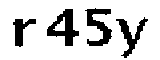4: (45, 8, 80, 48)
5: (84, 5, 113, 52)
r: (6, 15, 38, 49)
y: (115, 15, 151, 60)
